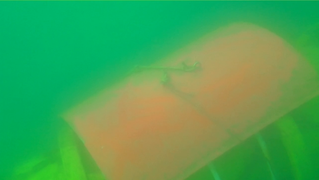leak: (59, 20, 319, 180)
pipe: (186, 93, 319, 180), (1, 125, 105, 180), (291, 25, 319, 75)
